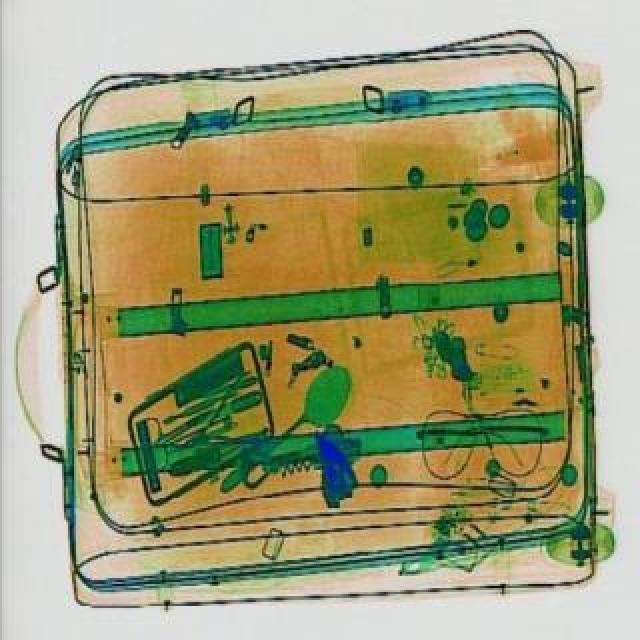pliers: (120, 382, 228, 474)
wrench: (164, 364, 286, 468)
